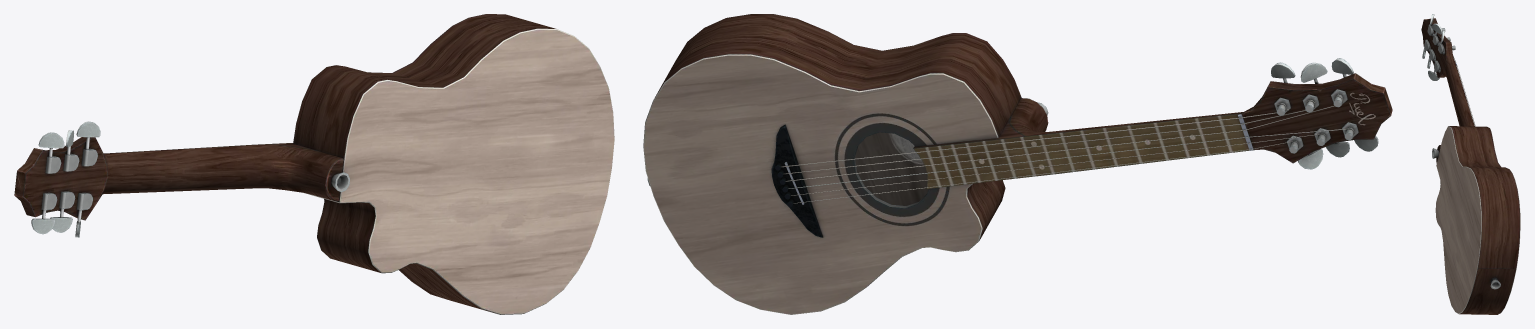
The model's file is low_poly_guitar.glb.
3 renders of one model, left to right at view 1: azimuth 30°, elevation 25°; view 2: azimuth 150°, elevation 25°; view 3: azimuth 270°, elevation 25°, orthographic. The views are drawn at different scales.
Visible parts, largest first — view 1: Line001_Material #295_0; view 2: Line001_Material #295_0; view 3: Line001_Material #295_0.
Boxes of the visible parts, x1,y1,x2,y2 form: Line001_Material #295_0: [14, 14, 614, 314]; Line001_Material #295_0: [643, 14, 1392, 314]; Line001_Material #295_0: [1421, 14, 1520, 314].
Size of the model in its own units: 1.44 by 0.6818 by 0.3605.
1 material, 1 textured.
